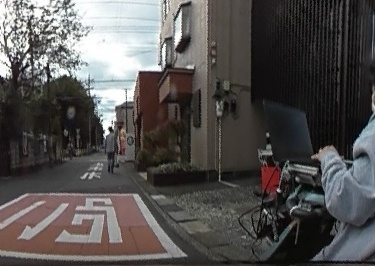person: (102, 125, 117, 169)
